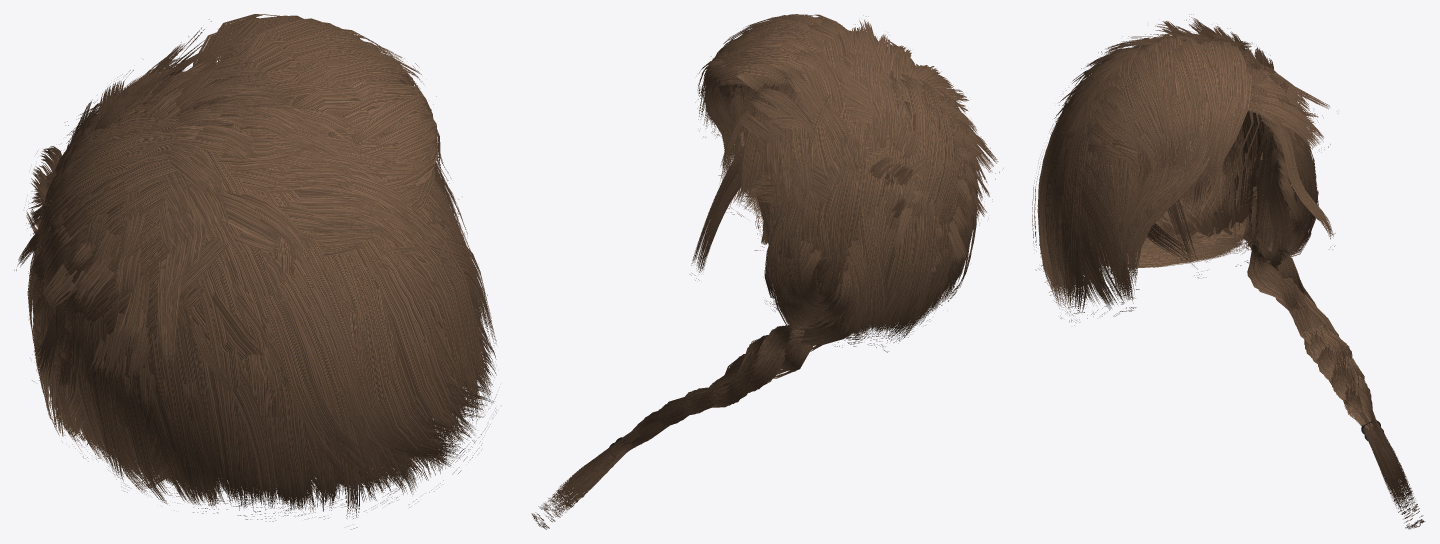
Rendered from hair-female.glb.
The picture shows the model from 3 angles, left to right: view 1: azimuth 30°, elevation 25°; view 2: azimuth 150°, elevation 25°; view 3: azimuth 270°, elevation 25°; orthographic projection. The views are drawn at different scales.
Visible parts, largest first — view 1: Hair_bob_cards, Hair_pixie_cards, Hair_braid_cards; view 2: Hair_pixie_cards, Hair_braid_cards, Hair_bob_cards, Hair_braid_plait; view 3: Hair_pixie_cards, Hair_bob_cards, Hair_braid_cards, Hair_braid_plait, Hair_bob_cap.
Boxes of the visible parts, left/top/right/bottom form: Hair_bob_cards: left=27, top=84, right=501, bottom=529; Hair_pixie_cards: left=14, top=14, right=458, bottom=438; Hair_braid_cards: left=36, top=71, right=414, bottom=352; Hair_pixie_cards: left=695, top=14, right=1003, bottom=292; Hair_braid_cards: left=690, top=70, right=975, bottom=329; Hair_bob_cards: left=705, top=53, right=977, bottom=352; Hair_braid_plait: left=531, top=314, right=853, bottom=529; Hair_pixie_cards: left=1054, top=14, right=1330, bottom=254; Hair_bob_cards: left=1032, top=44, right=1293, bottom=325; Hair_braid_cards: left=1046, top=35, right=1335, bottom=267; Hair_braid_plait: left=1247, top=222, right=1425, bottom=529; Hair_bob_cap: left=1152, top=118, right=1277, bottom=243.
Bounding box in the file's own units: 0.292 × 0.3926 × 0.3294.
3 materials, 1 textured.
